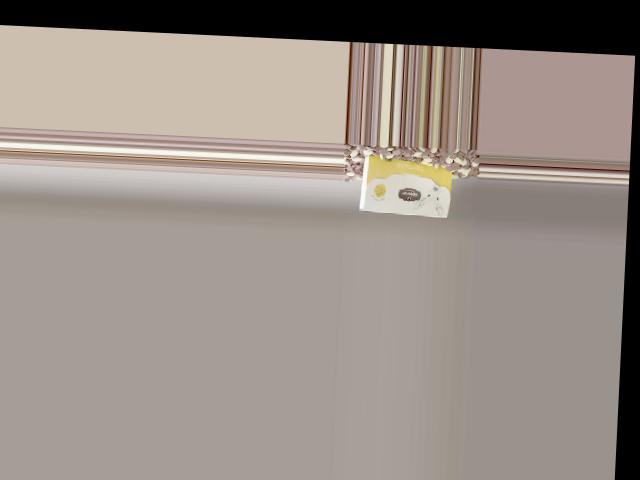chocolate: (354, 152, 458, 221)
